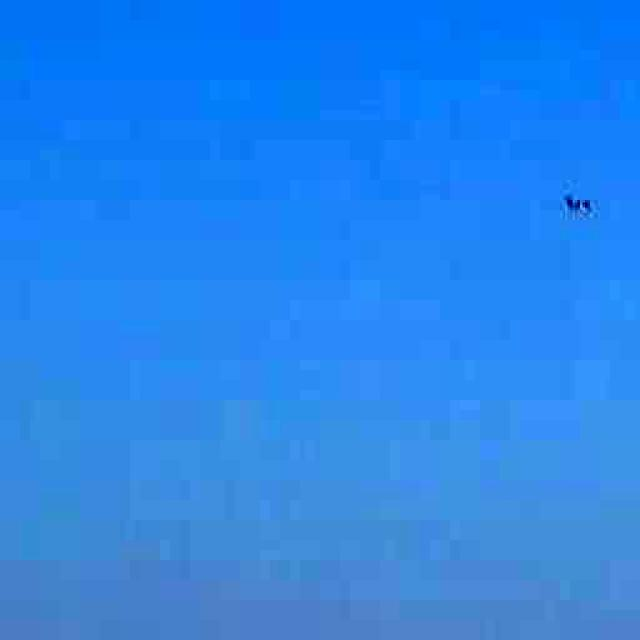bird: (541, 156, 614, 244)
